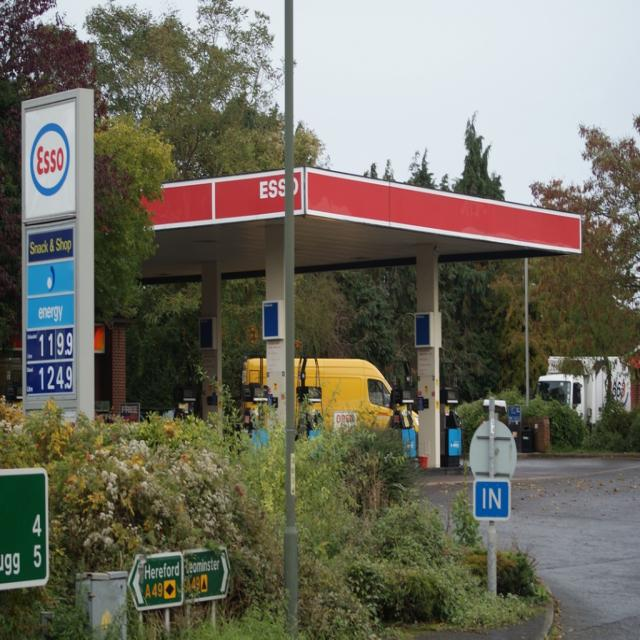esso: (28, 120, 74, 199)
